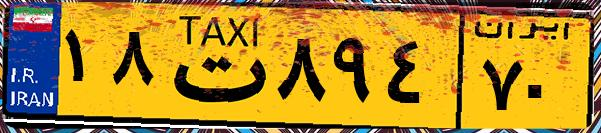0: (525, 38, 570, 115)
1: (57, 26, 110, 100)
4: (385, 28, 445, 110)
7: (475, 38, 525, 113)
8: (270, 28, 330, 110), (110, 28, 158, 98)
9: (330, 28, 385, 110)
ت: (158, 12, 270, 120)
